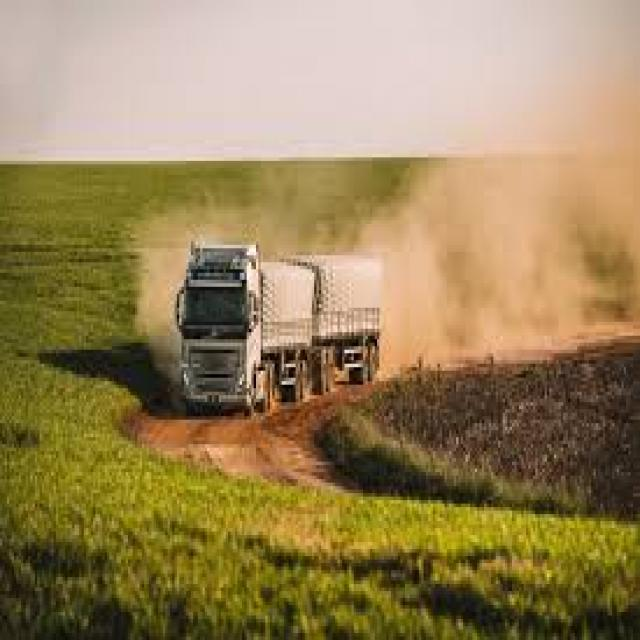truck: (128, 164, 412, 465)
